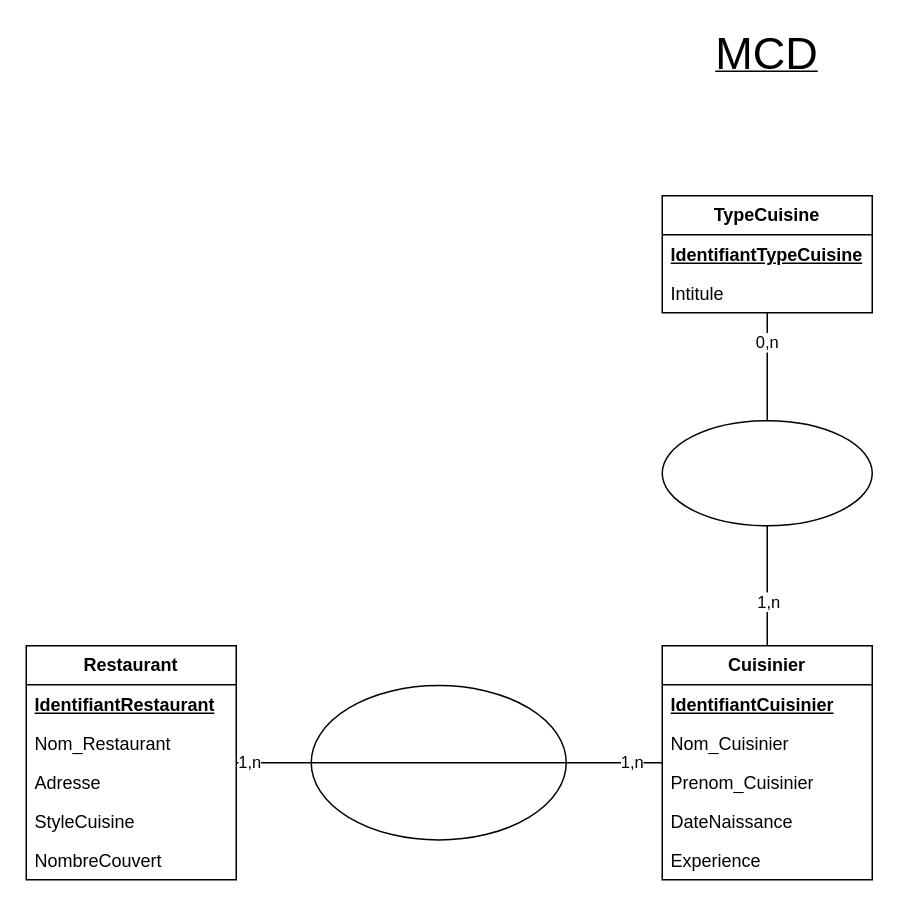
This 899x909 diagram has some shape labels left out. Each missing label, with the centre of its shape:
Maitriser: pixel 766 472
Travailler Role: pixel 438 762
